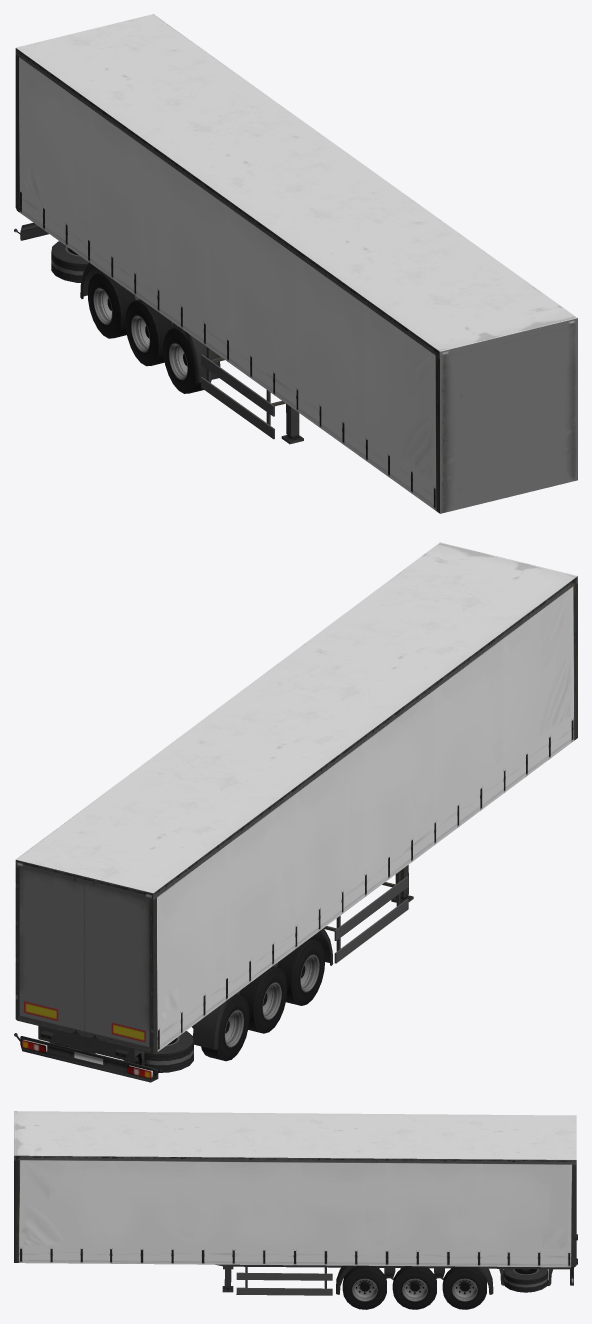
File: Trailer.FBX
3 views of the same model, one above another, from view 1: azimuth 30°, elevation 25°; view 2: azimuth 150°, elevation 25°; view 3: azimuth 270°, elevation 25° (orthographic). The views are drawn at different scales.
Visible parts, largest first — view 1: trailer__LOD0, Wheels_RR2_LOD0, Wheels_RR3_LOD0, Wheels_RR1_LOD0; view 2: trailer__LOD0, Wheels_RR1_LOD0, Wheels_RR2_LOD0, Wheels_RR3_LOD0; view 3: trailer__LOD0, Wheels_RL1_LOD0, Wheels_RL2_LOD0, Wheels_RL3_LOD0.
Part boxes in pixels (x1,y1,x2,y2): trailer__LOD0: [14, 14, 577, 513]; Wheels_RR2_LOD0: [125, 299, 173, 366]; Wheels_RR3_LOD0: [88, 272, 135, 338]; Wheels_RR1_LOD0: [163, 327, 211, 393]; trailer__LOD0: [14, 542, 577, 1082]; Wheels_RR1_LOD0: [277, 939, 325, 1005]; Wheels_RR2_LOD0: [239, 966, 287, 1033]; Wheels_RR3_LOD0: [201, 994, 249, 1061]; trailer__LOD0: [14, 1111, 577, 1295]; Wheels_RL1_LOD0: [342, 1265, 386, 1309]; Wheels_RL2_LOD0: [392, 1266, 436, 1309]; Wheels_RL3_LOD0: [442, 1266, 486, 1309].
Size of what is drawn, in the model's own units: 2.75 by 4.16 by 13.66.
